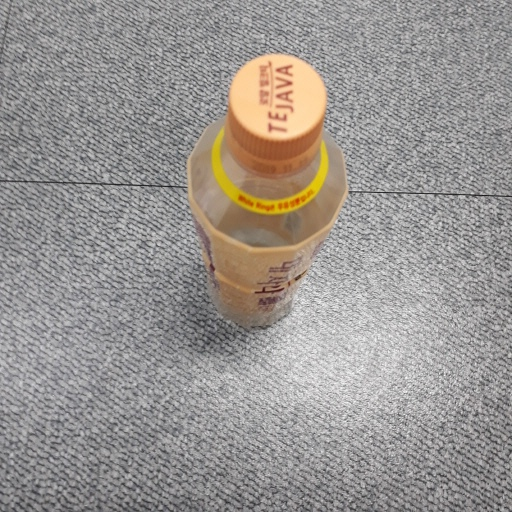Plastic_0: (185, 54, 350, 333)
